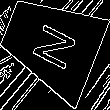N_NW: (23, 15, 78, 72)
